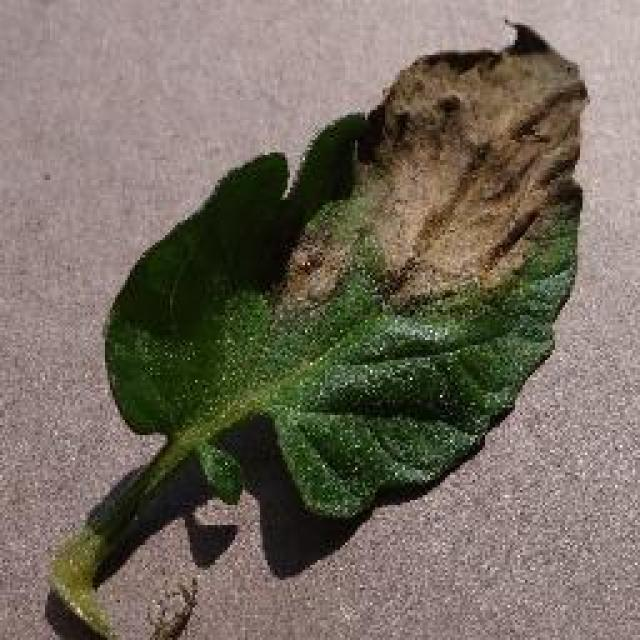Tomato Late Blight: (210, 0, 572, 360)
